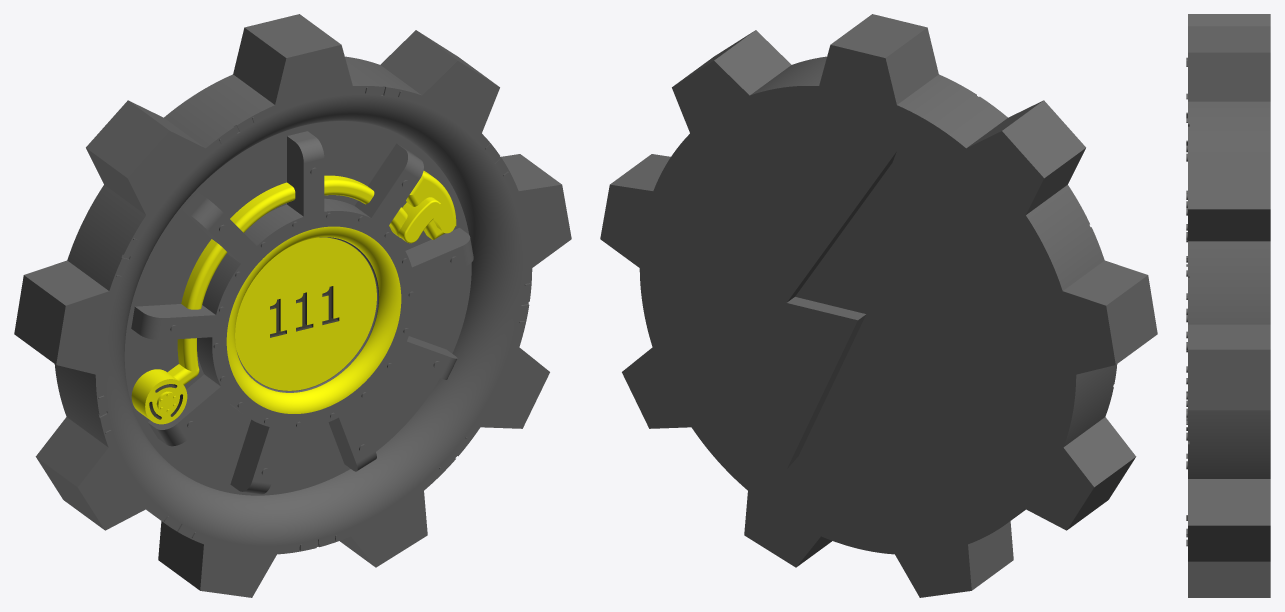
Rendered from VaultDoor111.obj.
3 views of the same model, side by side, from view 1: azimuth 30°, elevation 25°; view 2: azimuth 150°, elevation 25°; view 3: azimuth 270°, elevation 25° (orthographic).
Visible parts, largest first — view 1: Solid1; view 2: Solid1; view 3: Solid1.
Boxes of the visible parts, x1,y1,x2,y2 form: Solid1: (14,14,571,597); Solid1: (600,14,1157,597); Solid1: (1186,14,1270,597).
Bounding box in the file's own units: 5.32 × 5.23 × 0.765.
